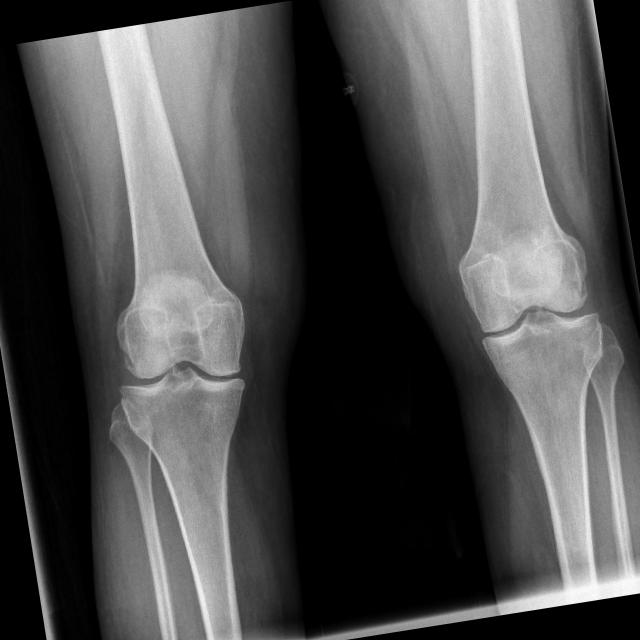Knee: (452, 234, 608, 392), (104, 296, 263, 448)
